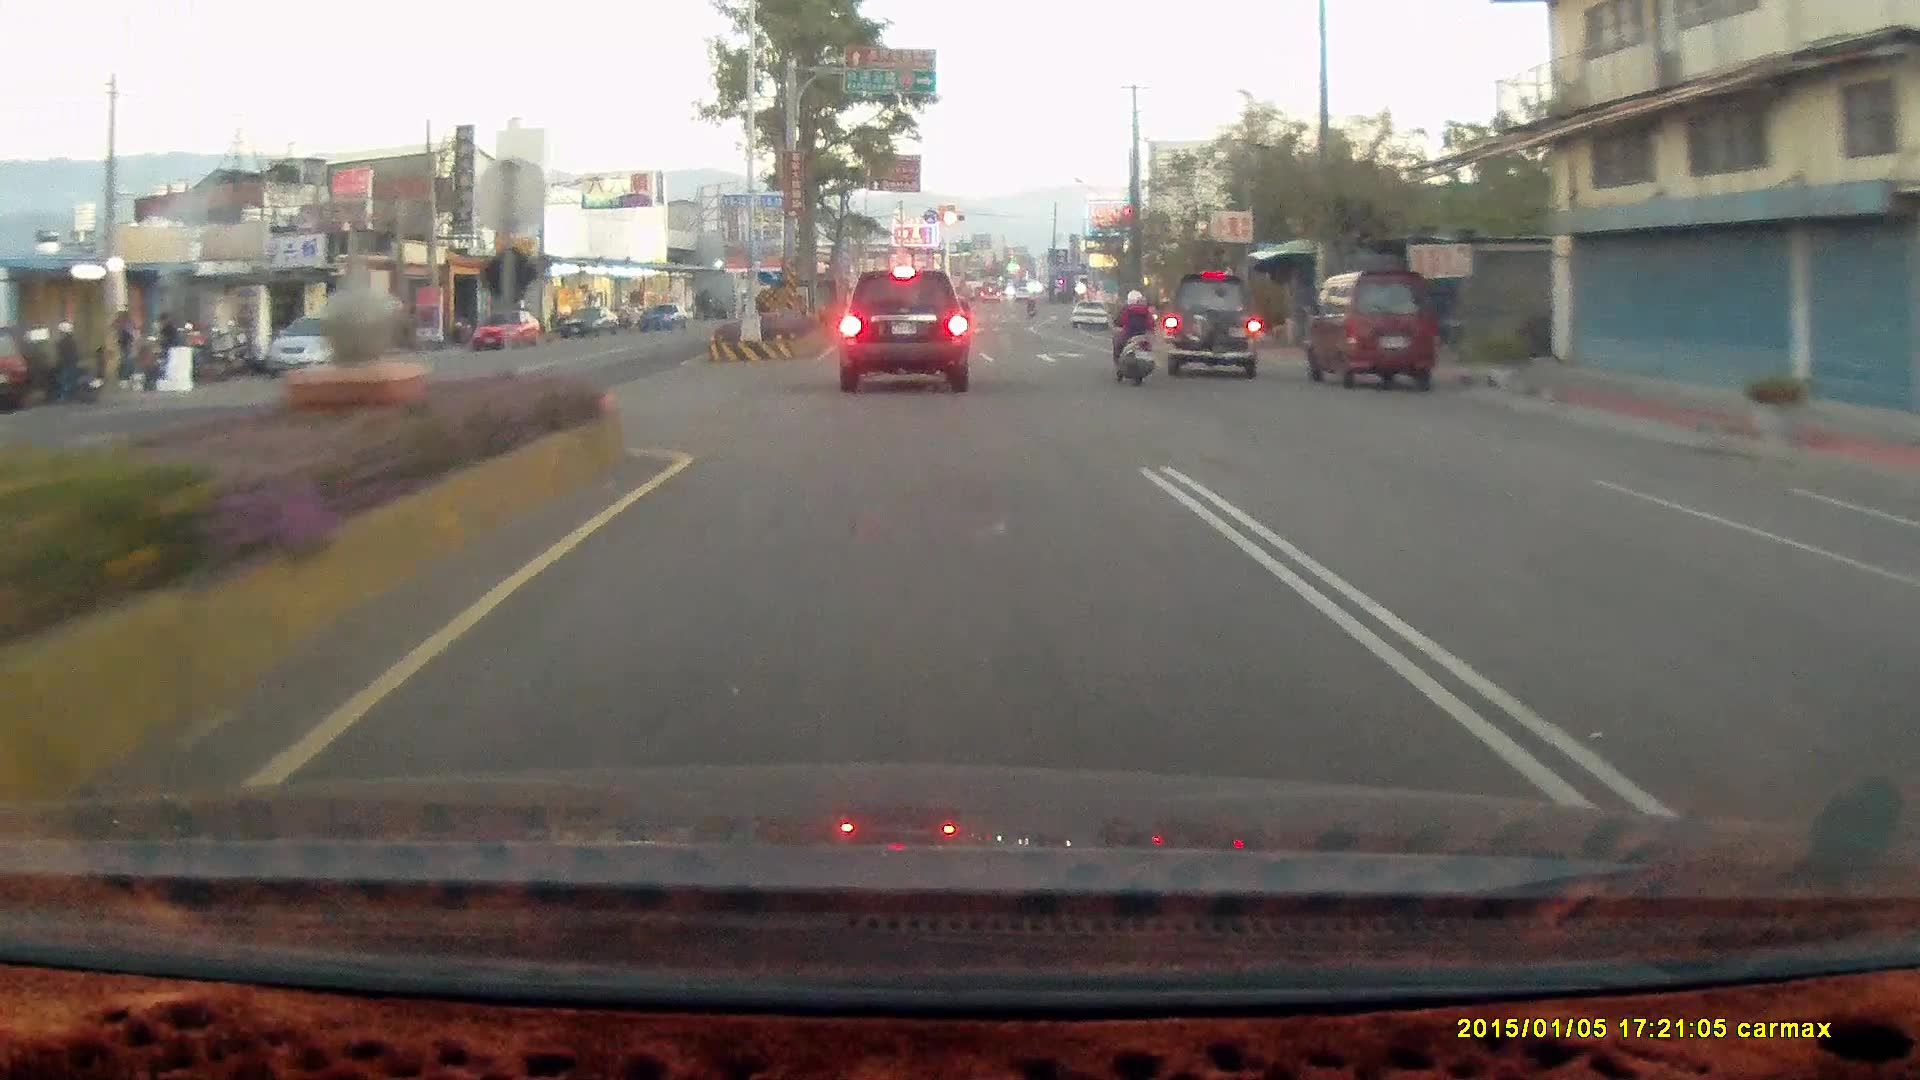pedestrian: (152, 309, 182, 378)
rider: (1110, 290, 1157, 391)
vehicle: (1311, 267, 1442, 393), (1300, 267, 1434, 391), (836, 269, 968, 392), (1160, 270, 1272, 377), (1161, 270, 1259, 377), (264, 311, 382, 383), (1896, 493, 1920, 836), (264, 311, 381, 379), (1883, 528, 1920, 690), (469, 309, 541, 351), (1069, 298, 1108, 329)
